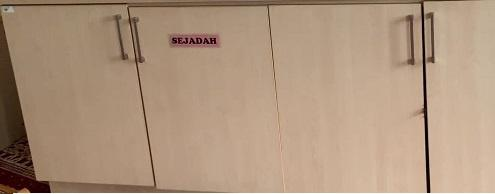cabinet_door: (275, 7, 423, 190), (143, 7, 276, 188), (25, 5, 143, 184), (425, 1, 495, 194)
handle: (113, 12, 130, 61), (132, 16, 147, 65), (406, 13, 418, 66), (427, 9, 438, 66)
